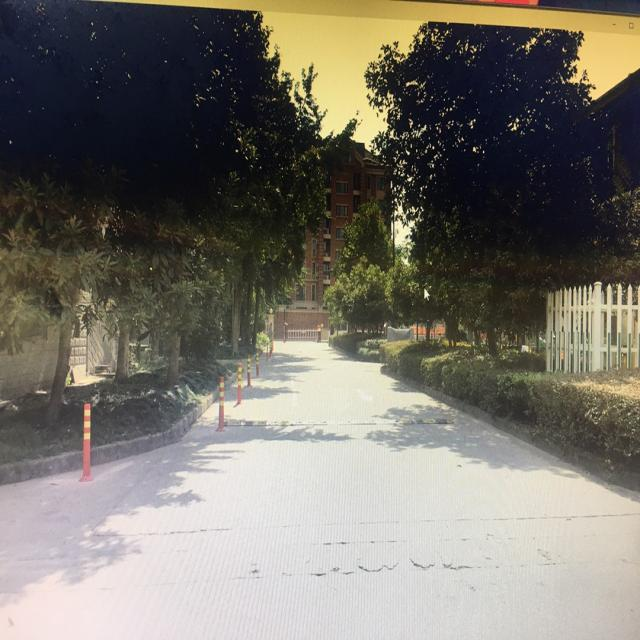warning_column: (78, 401, 93, 482), (216, 375, 227, 432), (235, 360, 243, 406), (246, 351, 252, 386), (255, 349, 259, 376)
